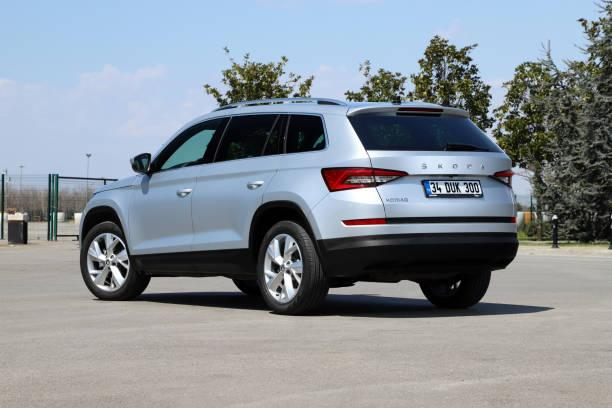skoda: (404, 154, 499, 180)
